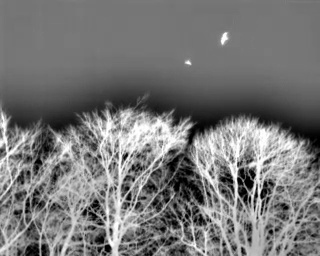BIRD: (183, 57, 194, 69)
